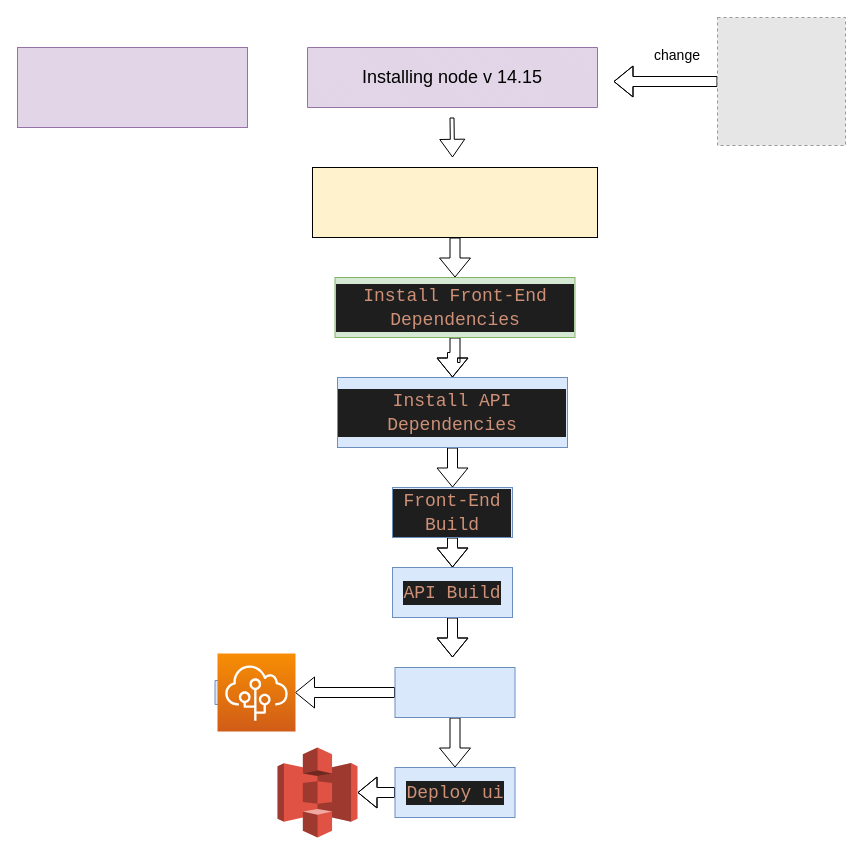
Some shapes in this 863 by 855 pixel diagram are drawn without their labels. Grey dashed boxes stand in for pictures. The box of each missing label's shape, as (x1, y1, x2, y2) in pixels:
Deploy api: (394, 666, 515, 718)
environment variables: (16, 46, 248, 128)
Installing awscli &eb: (312, 166, 598, 238)
